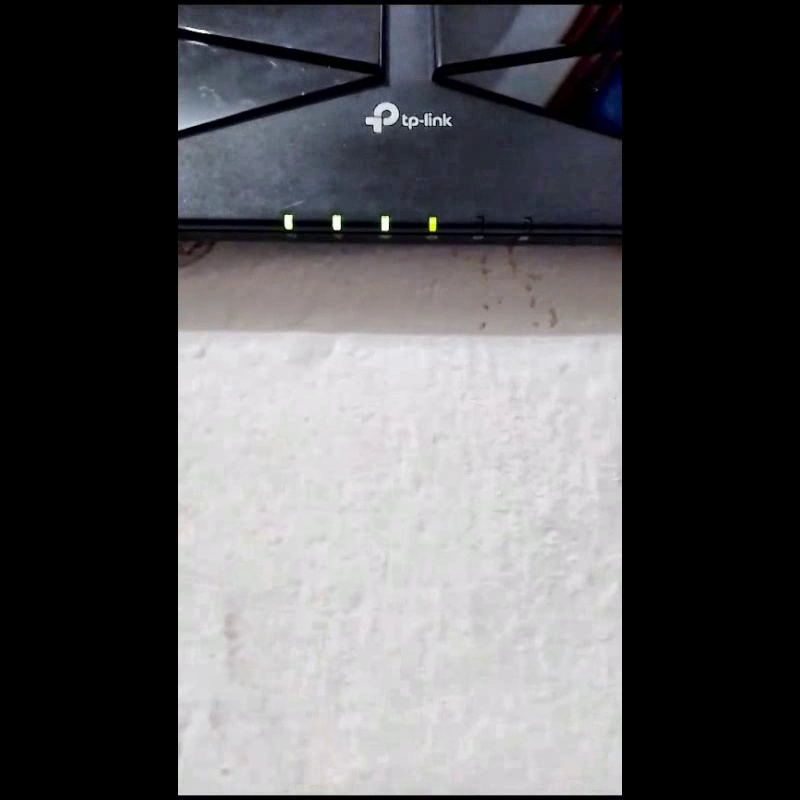off: (474, 214, 484, 233), (521, 215, 531, 233)
on_green: (380, 214, 390, 232), (283, 213, 293, 230), (331, 214, 341, 231), (428, 215, 437, 232)
